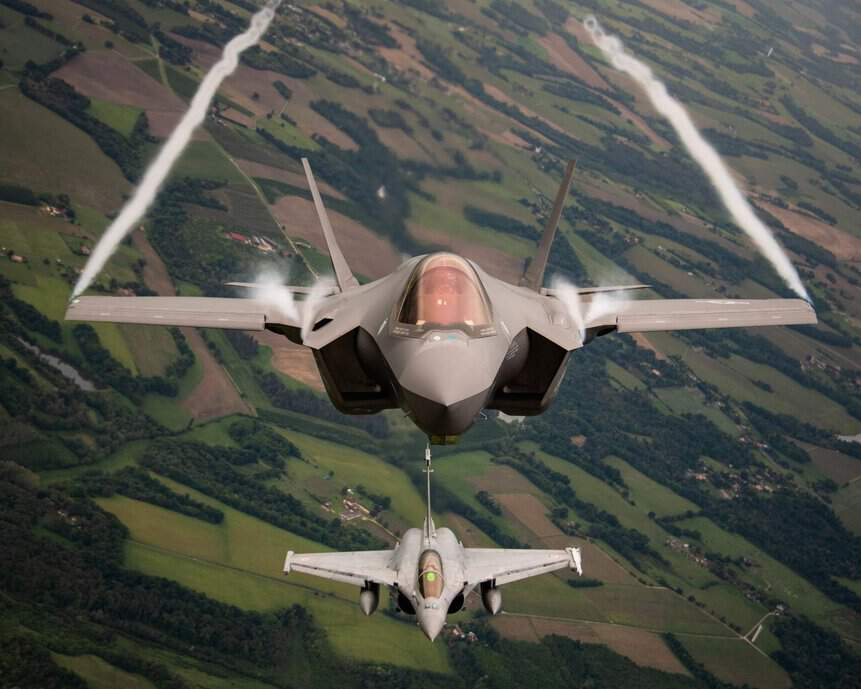F35: (57, 150, 827, 449)
Rafale: (279, 448, 590, 649)
